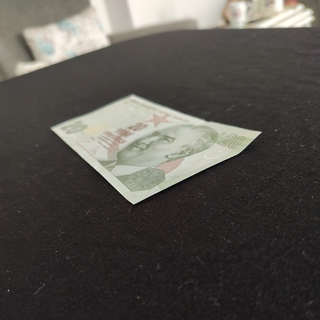20TLFront: (50, 94, 262, 206)
